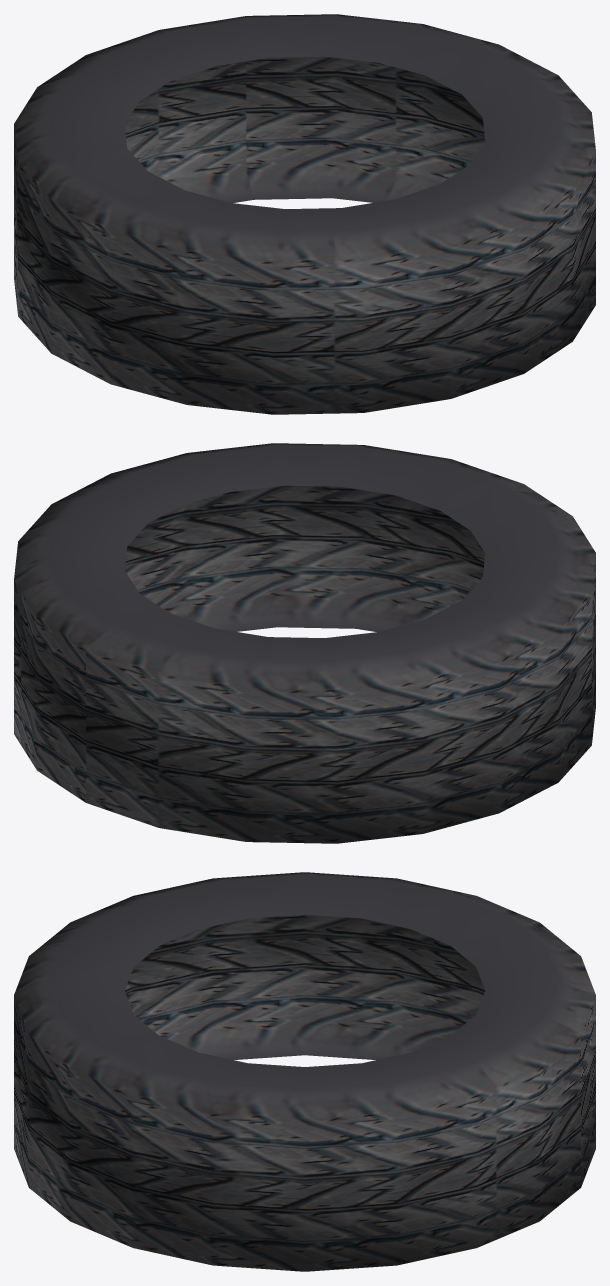
Rendered from tire.obj.
3 renders of one model, top to bottom at view 1: azimuth 30°, elevation 25°; view 2: azimuth 150°, elevation 25°; view 3: azimuth 270°, elevation 25°, orthographic.
Visible parts, largest first — view 1: Object02; view 2: Object02; view 3: Object02.
Boxes of the visible parts, box(x1,y1,x2,y2) form: Object02: box(14, 14, 595, 414); Object02: box(14, 443, 595, 843); Object02: box(14, 872, 595, 1271).
Bounding box in the file's own units: 0.5998 × 0.2049 × 0.5998.
2 materials, 2 textured.
